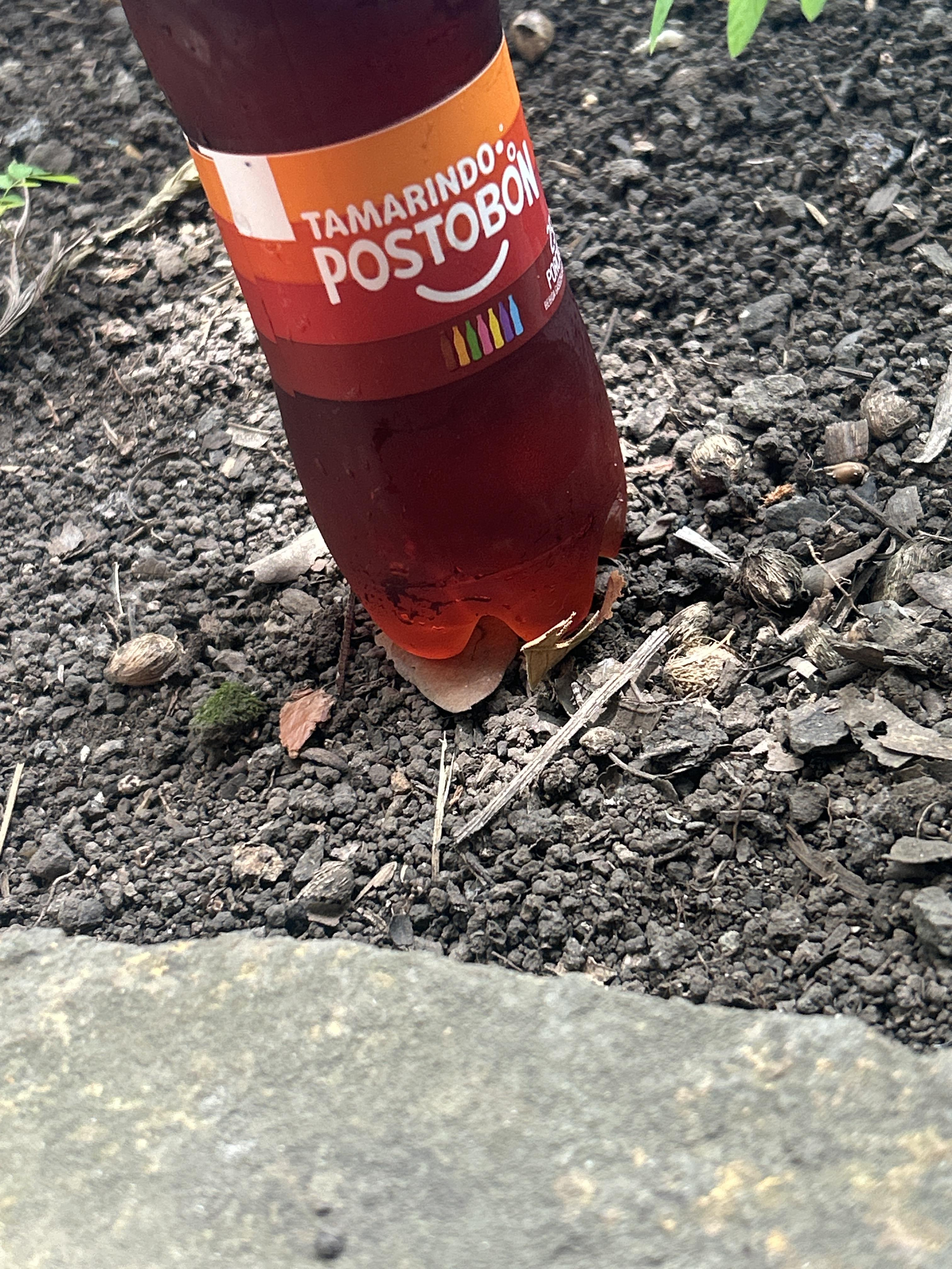tamarindo: (123, 0, 625, 658)
